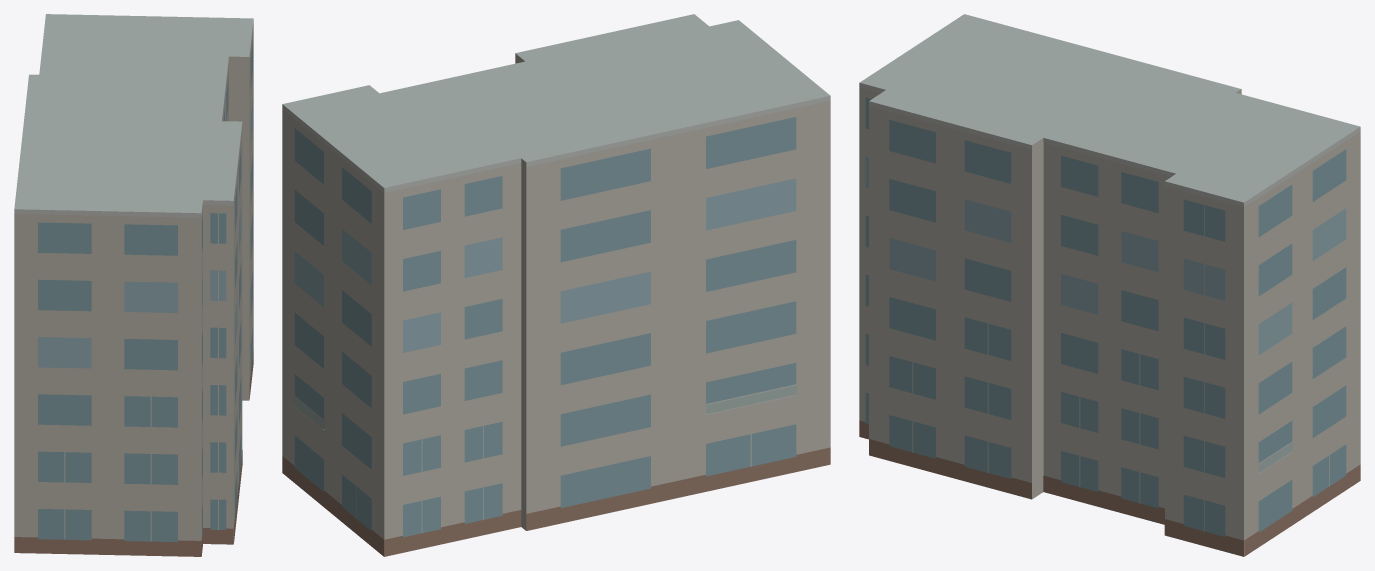
Rendered from survey-upis-32656666.glb.
3 views of the same model, side by side, from view 1: azimuth 30°, elevation 25°; view 2: azimuth 150°, elevation 25°; view 3: azimuth 270°, elevation 25° (orthographic). The views are drawn at different scales.
Visible parts, largest first — view 1: survey-upis-32656666.tmp; view 2: survey-upis-32656666.tmp; view 3: survey-upis-32656666.tmp.
Boxes of the visible parts, x1,y1,x2,y2 form: survey-upis-32656666.tmp: (14, 14, 253, 556); survey-upis-32656666.tmp: (282, 14, 830, 556); survey-upis-32656666.tmp: (859, 14, 1360, 556).
Size of the model in its own units: 21.14 by 18.5 by 23.72.
